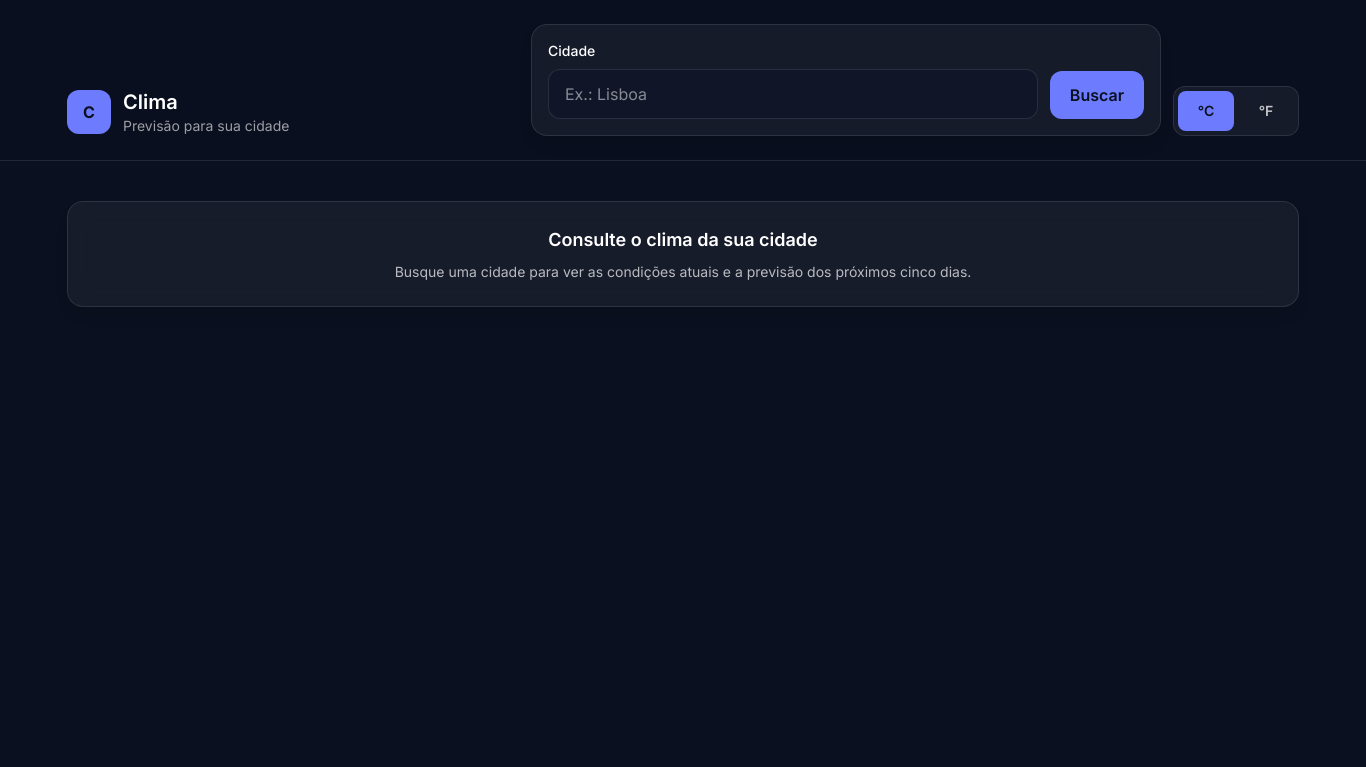
Test: App › keeps unit as UI state and persists the selection without a new forecast
The width and height of the screenshot is (1366, 767).
Type "Lisboa" into the search field labelled "Cidade" at (793, 94), box [548, 69, 1038, 119]
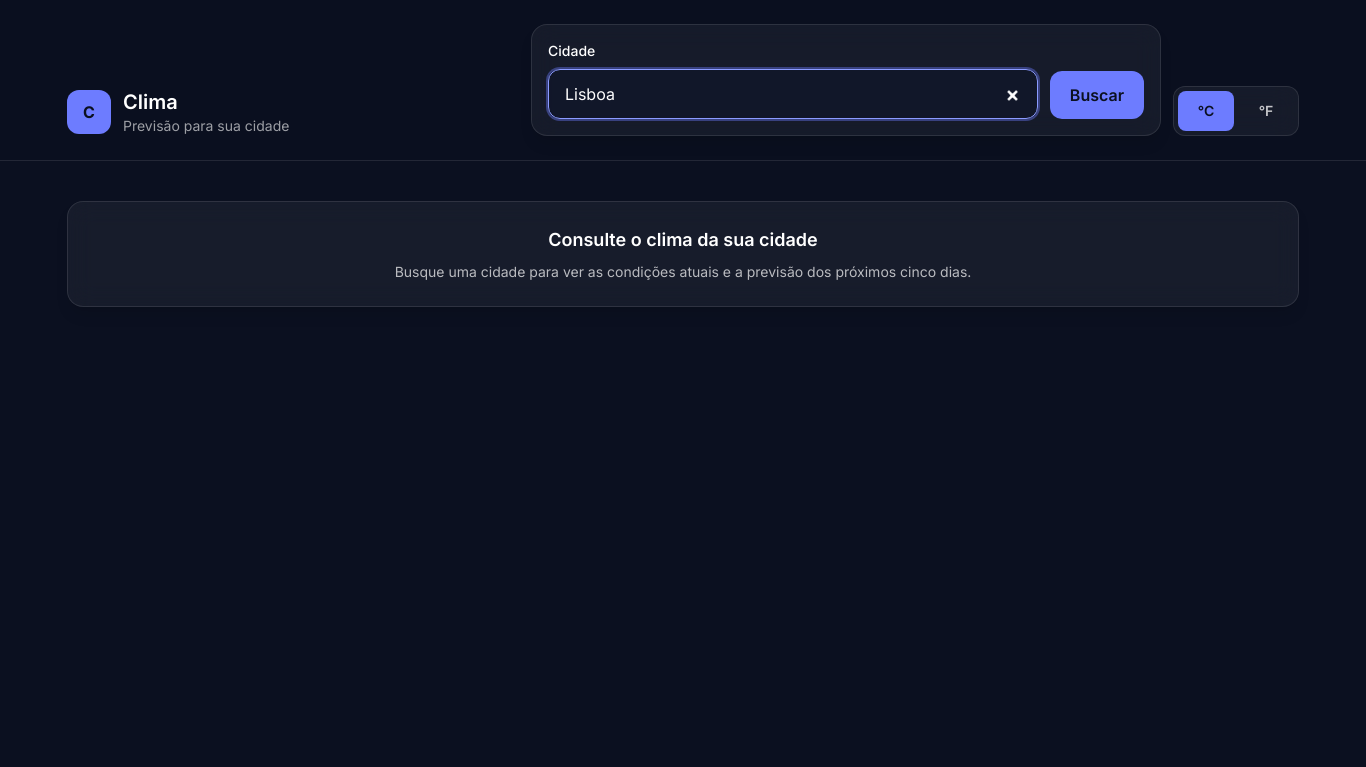
Click the button "Buscar" at (1097, 95), box [1050, 71, 1144, 119]
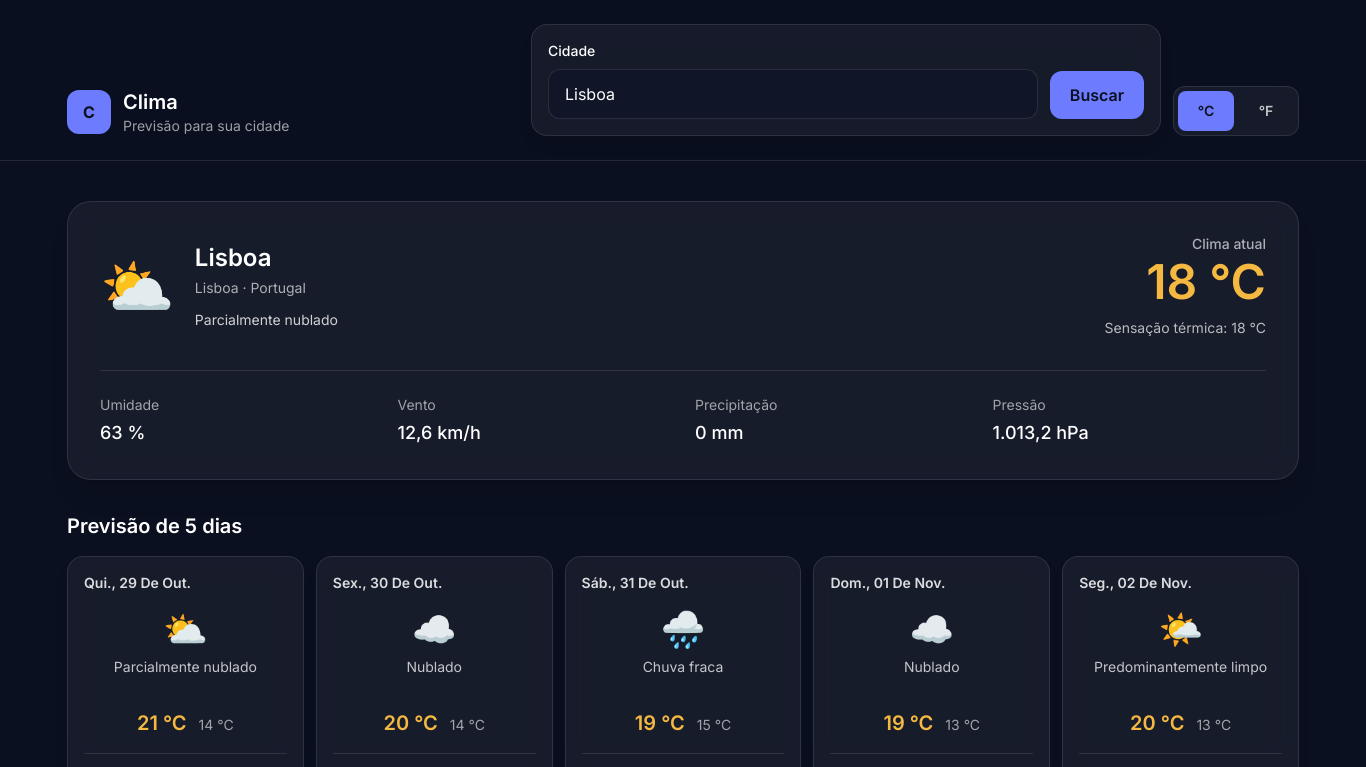
Now the heading "Lisboa" is shown, box [195, 243, 272, 272]
Click the button named "Fahrenheit" at (1266, 111), box [1238, 91, 1294, 131]
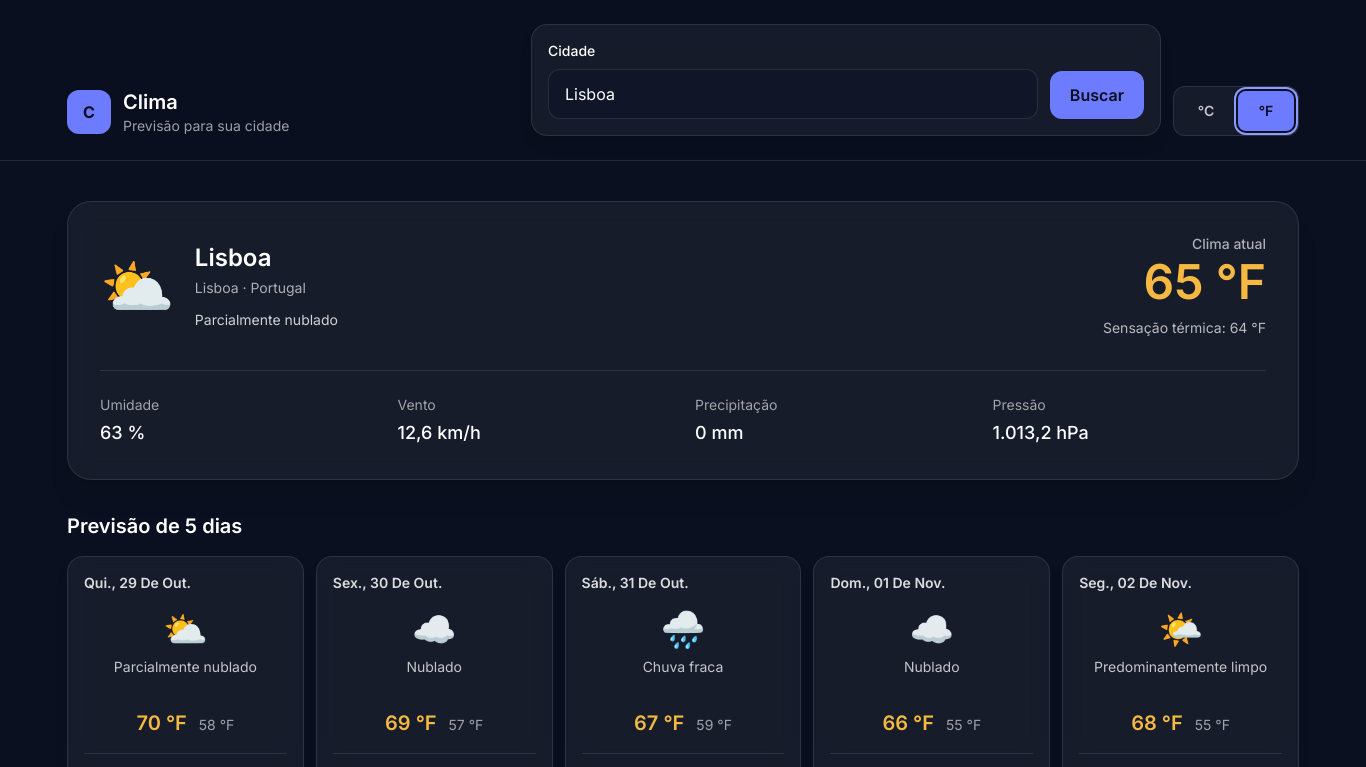
Now the text "65 °F" is shown, box [1144, 252, 1266, 311]
